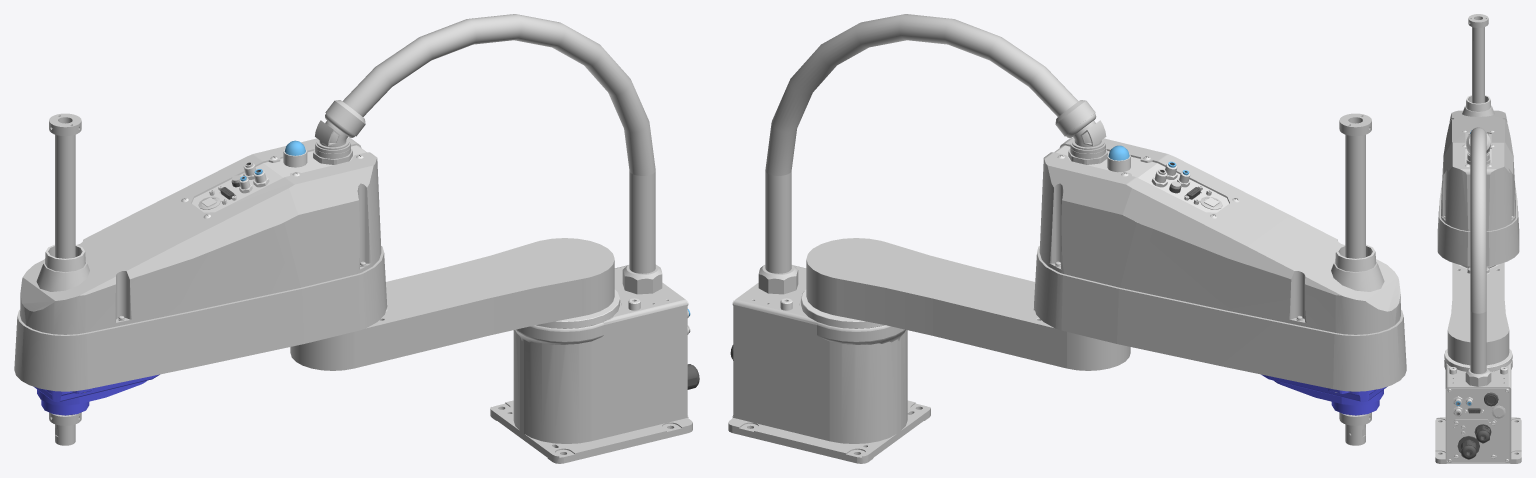
File: ScaraRobot .glb
3 views of the same model, side by side, from view 1: azimuth 30°, elevation 25°; view 2: azimuth 150°, elevation 25°; view 3: azimuth 270°, elevation 25° (orthographic). The views are drawn at different scales.
Visible parts, largest first — view 1: LS10-B702S_J2_4, LS10-B702S_base_1, LS10-B702S_J1_3, LS10-B702S_cable_2, LS10-B702S_z_5; view 2: LS10-B702S_J2_4, LS10-B702S_base_1, LS10-B702S_J1_3, LS10-B702S_cable_2, LS10-B702S_z_5; view 3: LS10-B702S_J2_4, LS10-B702S_base_1, LS10-B702S_cable_2, LS10-B702S_J1_3, LS10-B702S_z_5.
Part boxes in pixels (left/top/right/bottom): LS10-B702S_J2_4: left=14, top=137, right=387, bottom=415; LS10-B702S_base_1: left=490, top=265, right=699, bottom=463; LS10-B702S_J1_3: left=290, top=238, right=614, bottom=370; LS10-B702S_cable_2: left=313, top=14, right=662, bottom=294; LS10-B702S_z_5: left=49, top=113, right=81, bottom=445; LS10-B702S_J2_4: left=1034, top=137, right=1406, bottom=415; LS10-B702S_base_1: left=728, top=265, right=930, bottom=463; LS10-B702S_J1_3: left=806, top=238, right=1130, bottom=370; LS10-B702S_cable_2: left=758, top=14, right=1107, bottom=294; LS10-B702S_z_5: left=1339, top=113, right=1371, bottom=445; LS10-B702S_J2_4: left=1437, top=95, right=1519, bottom=268; LS10-B702S_base_1: left=1435, top=349, right=1521, bottom=463; LS10-B702S_cable_2: left=1465, top=127, right=1491, bottom=386; LS10-B702S_J1_3: left=1447, top=262, right=1509, bottom=365; LS10-B702S_z_5: left=1468, top=14, right=1488, bottom=103.
Size of the model in its own units: 0.934 by 0.5794 by 0.169.
